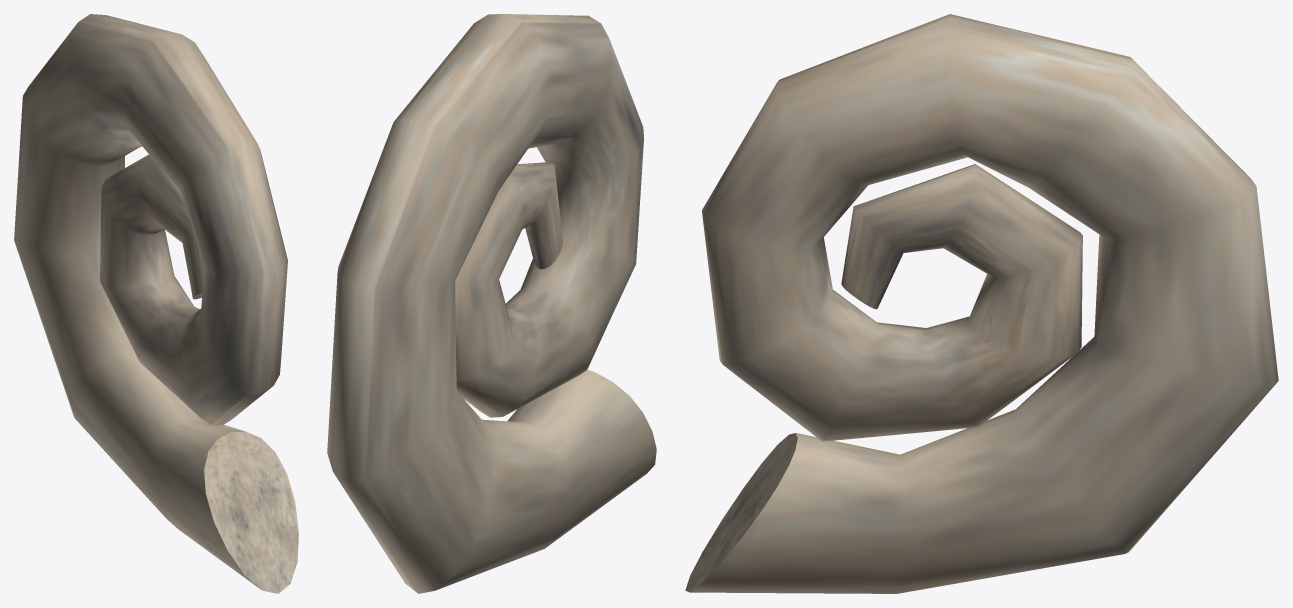
File: kaseki_ammonite.fbx
3 views of the same model, side by side, from view 1: azimuth 30°, elevation 25°; view 2: azimuth 150°, elevation 25°; view 3: azimuth 270°, elevation 25° (orthographic). The views are drawn at different scales.
Visible parts, largest first — view 1: pCylinder51; view 2: pCylinder51; view 3: pCylinder51.
Part boxes in pixels (<box>): pCylinder51: <box>14,14,298,593</box>; pCylinder51: <box>327,14,656,593</box>; pCylinder51: <box>685,14,1278,593</box>.
Size of the model in its own units: 9.73 by 54.04 by 50.59.
Materials: 1 (1 with a texture image).
